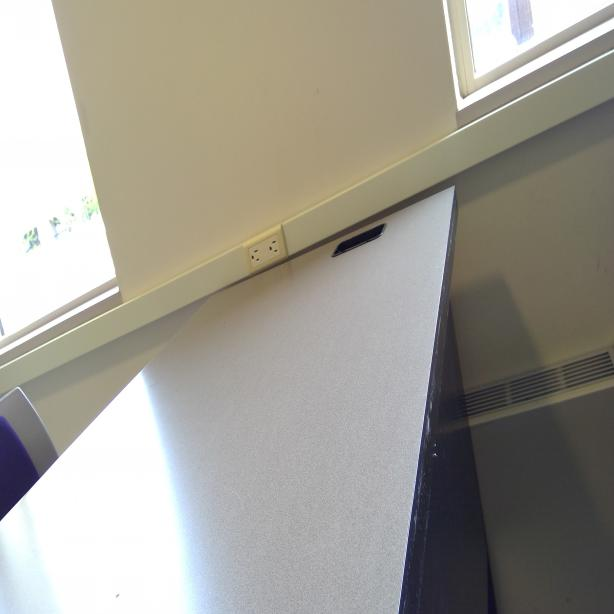typeb: (248, 246, 262, 266), (266, 238, 279, 258)
